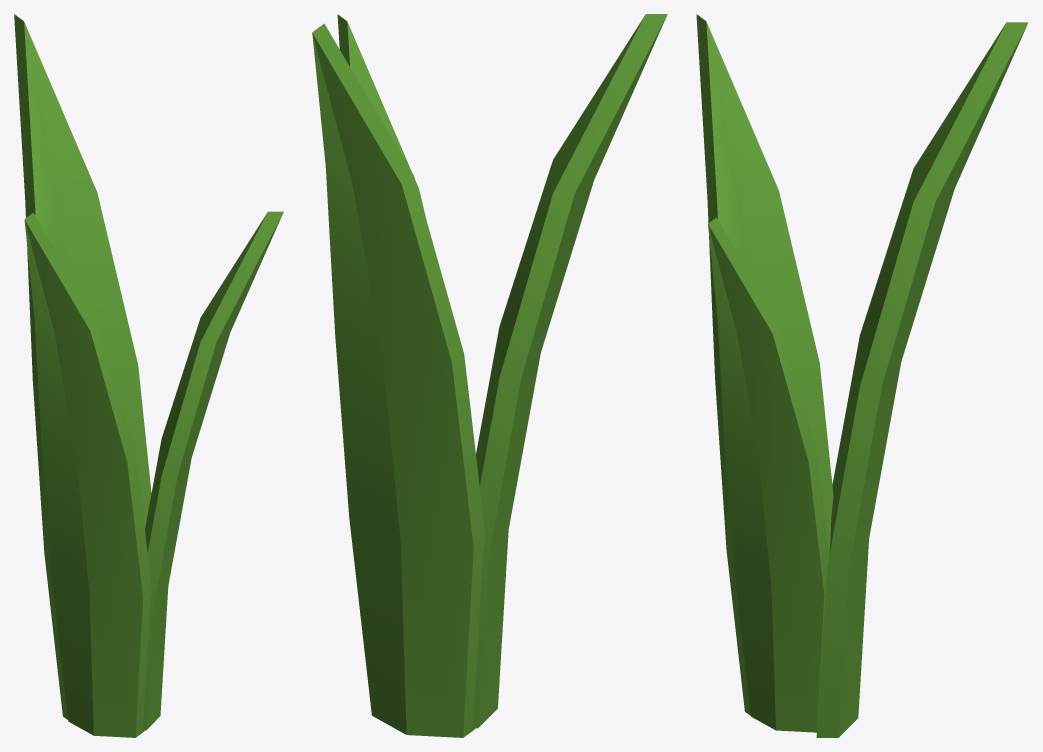
Rendered from plant_grass_1.glb.
3 views of the same model, side by side, from view 1: azimuth 30°, elevation 25°; view 2: azimuth 150°, elevation 25°; view 3: azimuth 270°, elevation 25° (orthographic). The views are drawn at different scales.
Visible parts, largest first — view 1: plant_grass_1; view 2: plant_grass_1; view 3: plant_grass_1.
Boxes of the visible parts, left/top/right/bottom form: plant_grass_1: left=14, top=14, right=283, bottom=737; plant_grass_1: left=312, top=14, right=667, bottom=737; plant_grass_1: left=696, top=14, right=1028, bottom=737.
Size of the model in its own units: 0.3952 by 0.9 by 0.3893.
